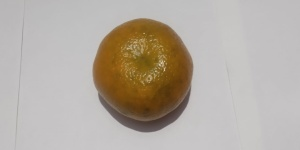BAD: (90, 16, 199, 124)
